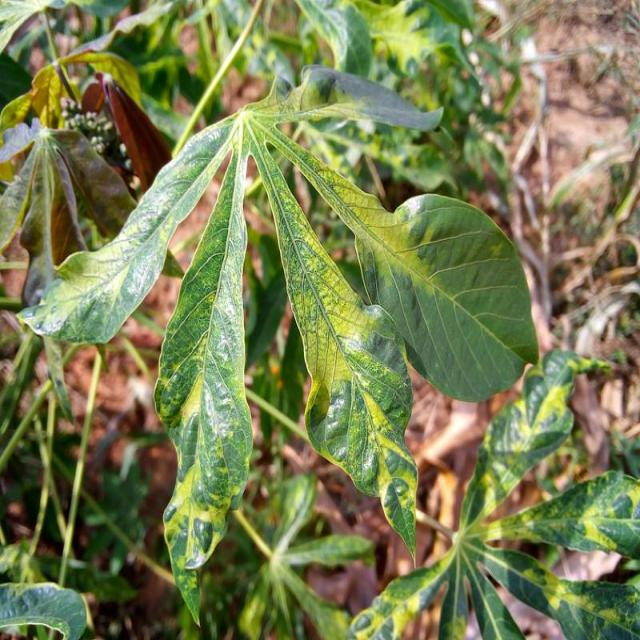cassava leaf: (14, 62, 538, 623)
